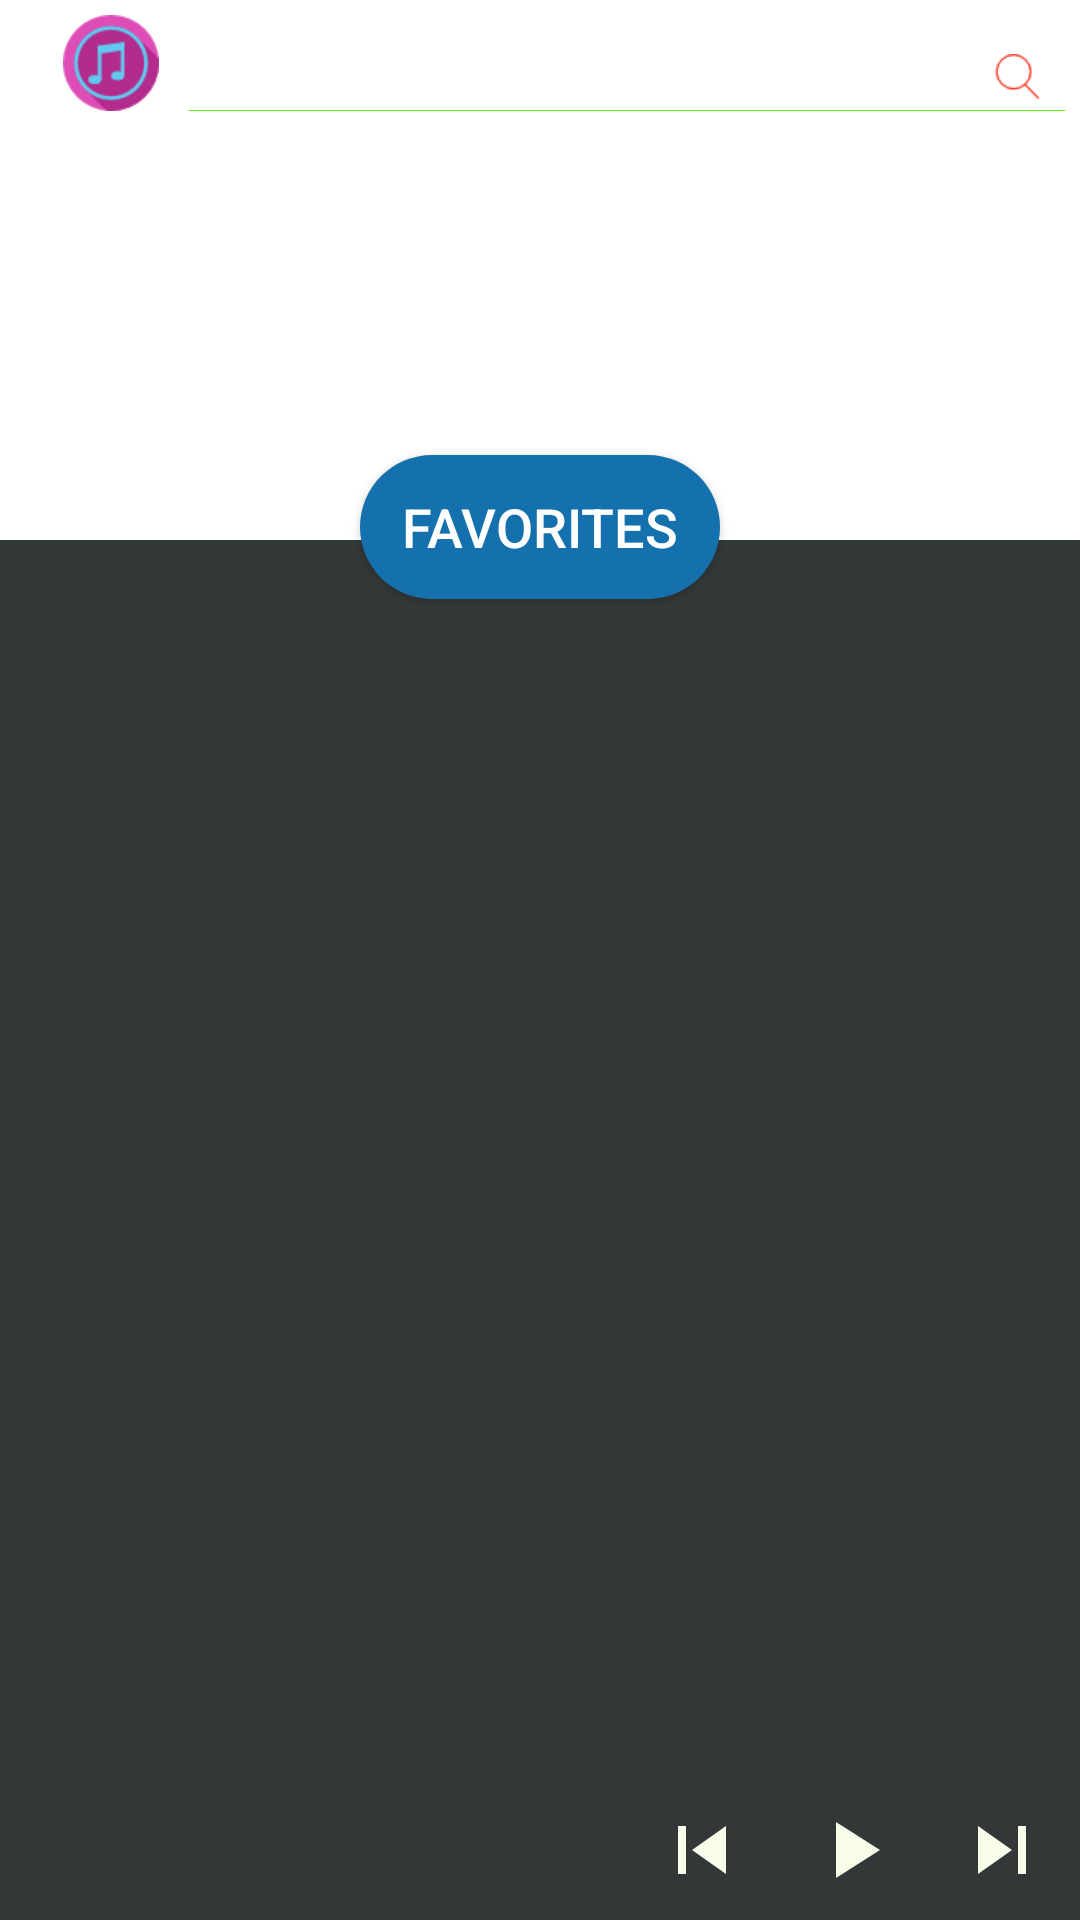

Named icons in this screenshot (1080 x 1920) and their centers, (x,y):
app: (111,63)
next: (1002,1850)
play: (858,1850)
previous: (702,1850)
